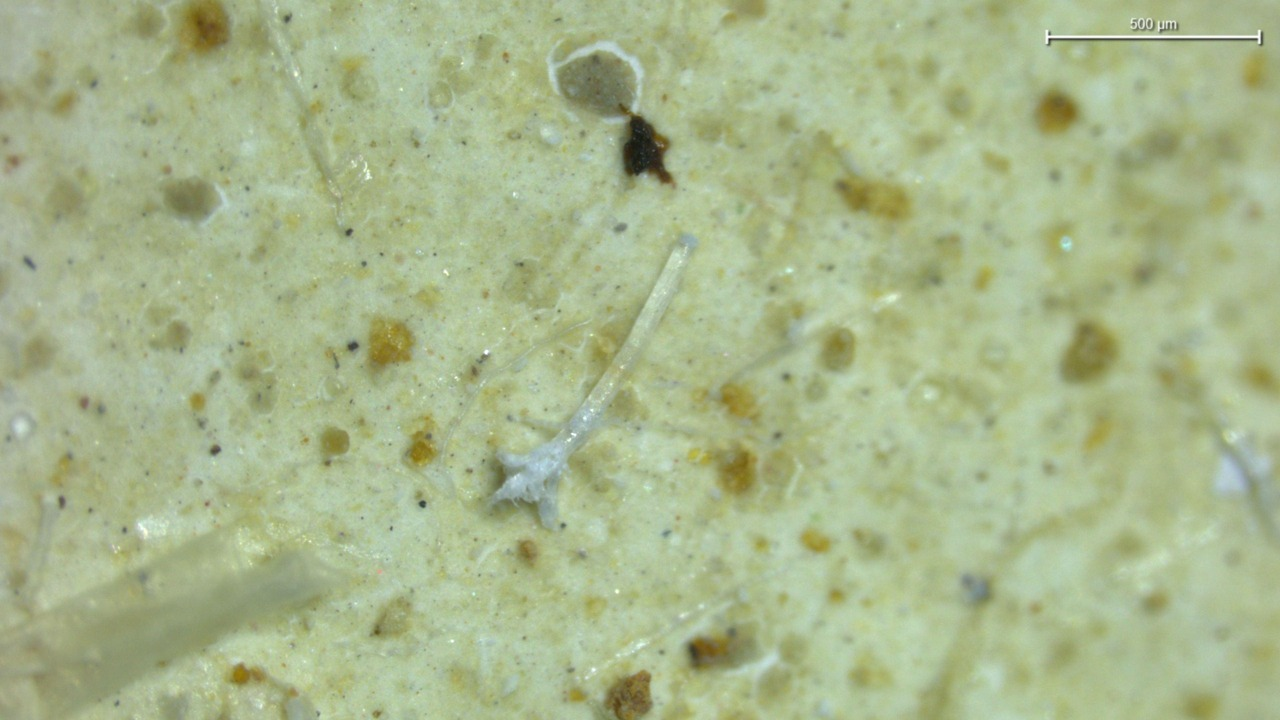microplastic_fragment: (0, 531, 341, 717), (492, 234, 697, 527)
